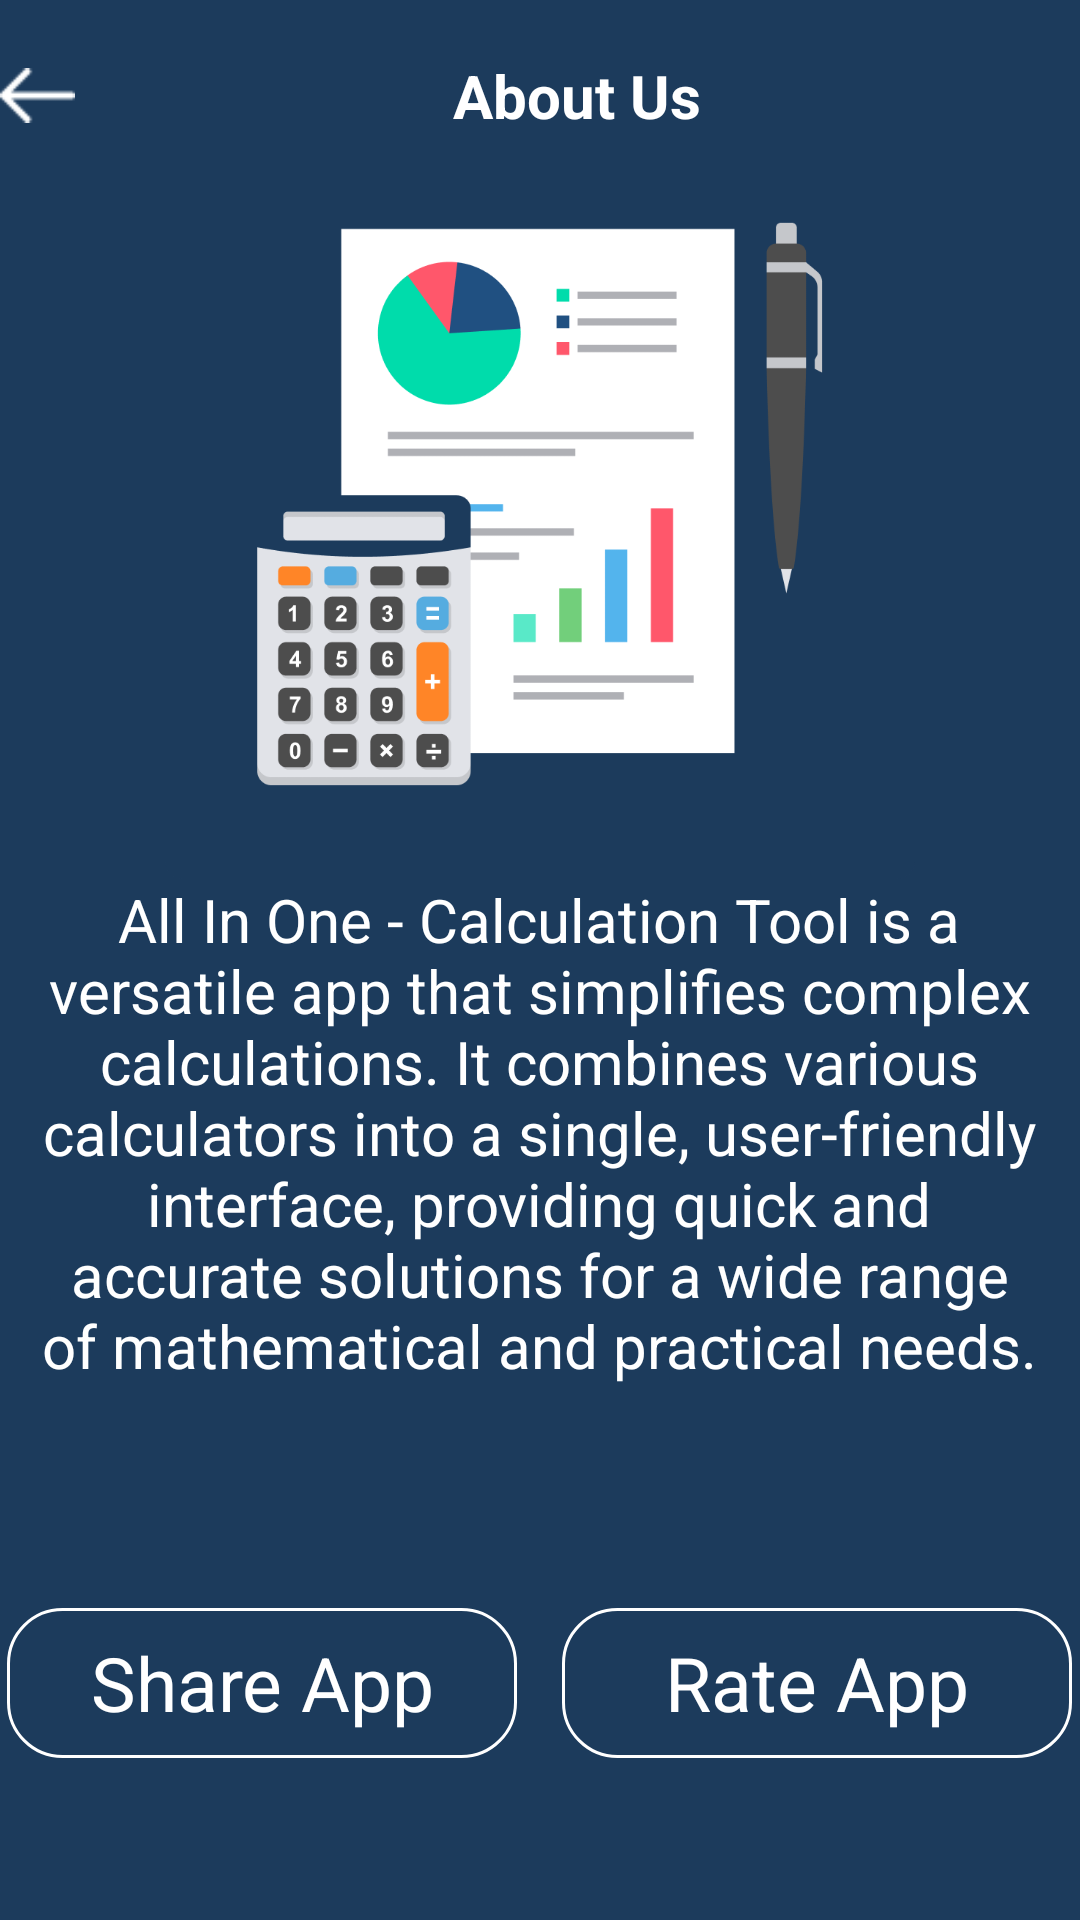

Icons on this 1080px x 1920px Android screen, each with the point to tap as (x,y):
backarrowhite: (37,95)
